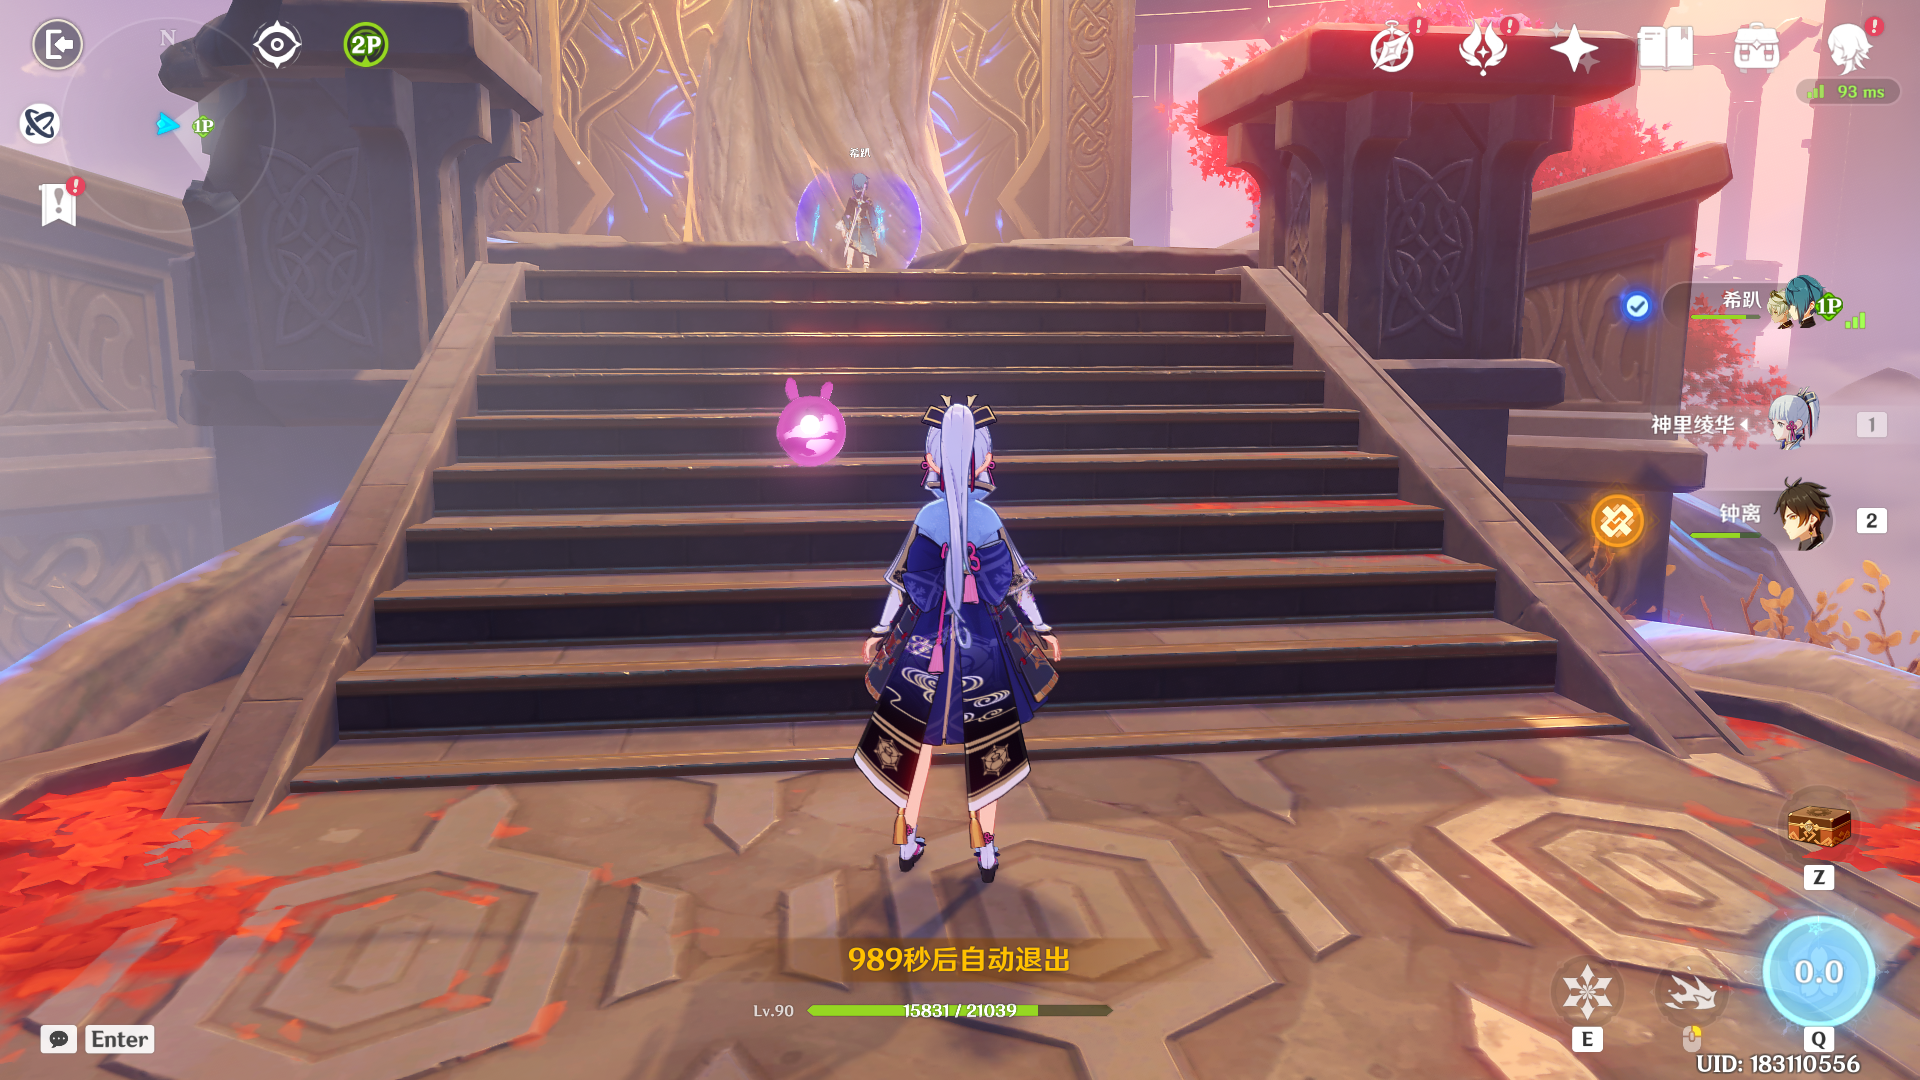character: (829, 375, 1079, 887), (819, 169, 911, 281)
